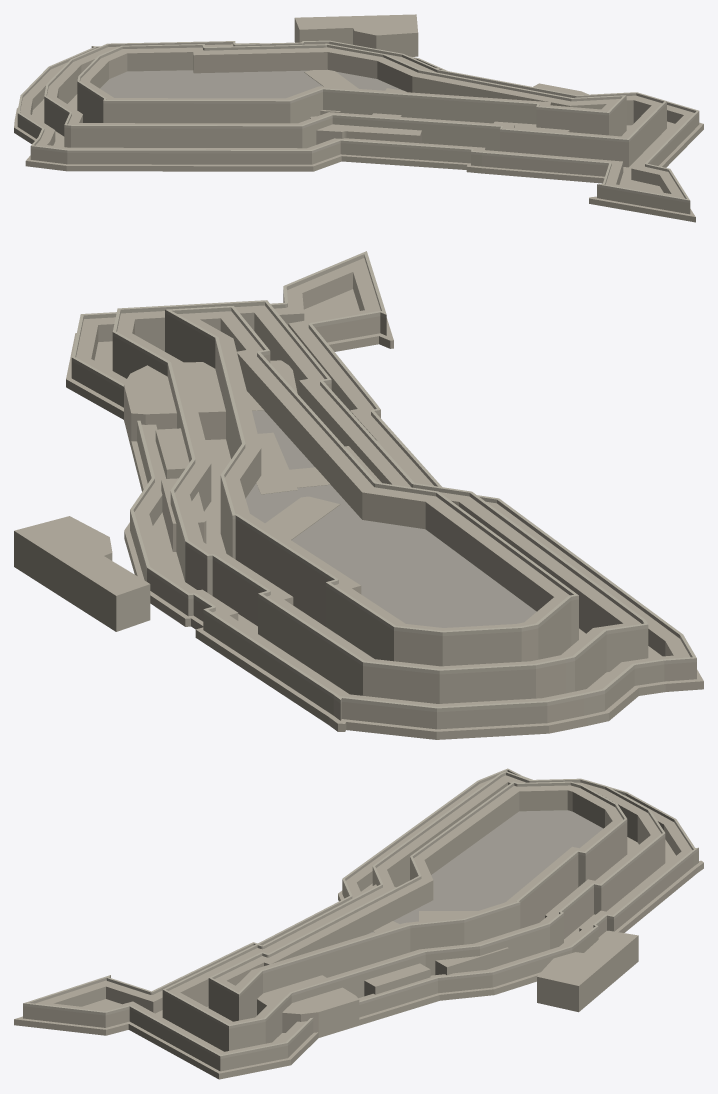
Rendered from birgu_59_23_collision.glb.
3 renders of one model, top to bottom at view 1: azimuth 30°, elevation 25°; view 2: azimuth 150°, elevation 25°; view 3: azimuth 270°, elevation 25°, orthographic. The views are drawn at different scales.
Parts seen in each view (by area): view 1: geometry_0; view 2: geometry_0; view 3: geometry_0.
Part boxes in pixels (<box>): geometry_0: <box>14,14,703,222</box>; geometry_0: <box>14,251,703,739</box>; geometry_0: <box>14,768,703,1079</box>.
Bounding box in the file's own units: 252 × 19.48 × 252.
